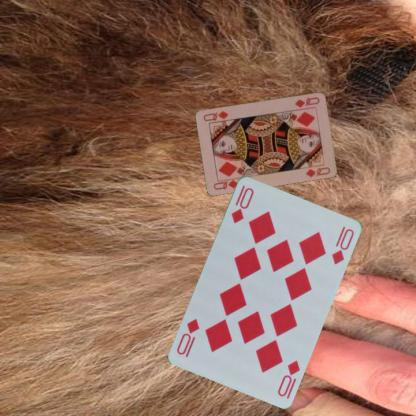10d: (228, 182, 255, 224), (274, 357, 301, 398)
Qd: (211, 174, 240, 190), (292, 94, 321, 109)
